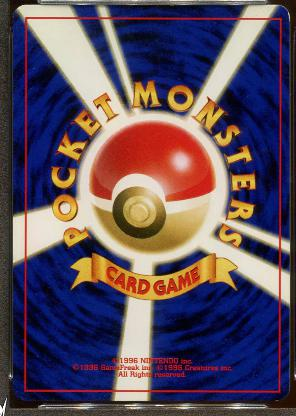Card: (11, 2, 291, 404)
Corner Wear: (284, 9, 289, 24)
